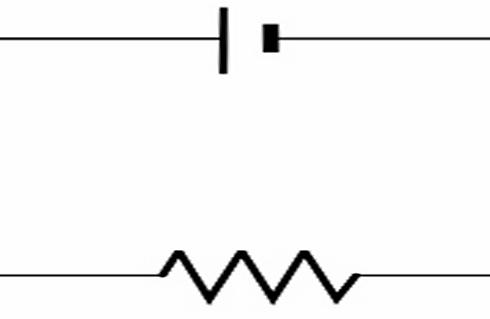resistor: (102, 207, 366, 310)
